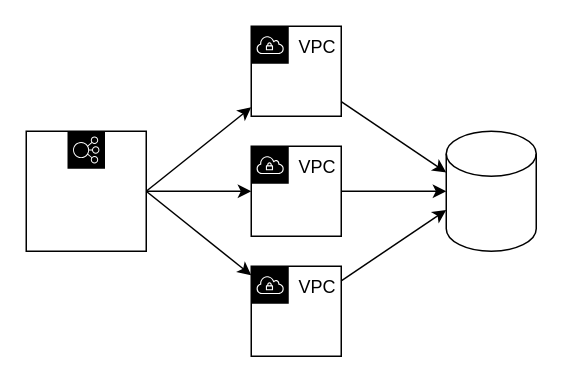
Some shapes in this 563 by 383 pixel diagram are drawn without their labels. Each missing label, with the centre of its shape:
"Aplication Load Balancing" belongs at point 85,190.
"DynamoDB" belongs at point 490,190.
